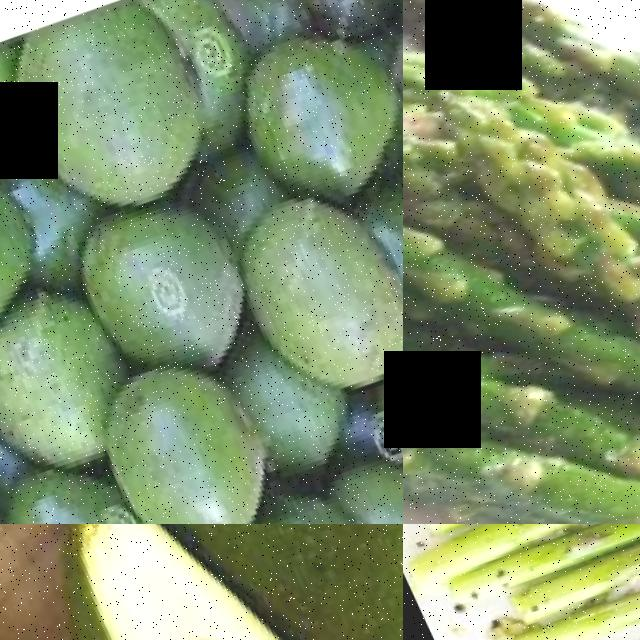asparagus: (485, 524, 640, 640), (504, 524, 640, 640), (458, 524, 640, 579), (534, 524, 640, 605), (504, 590, 640, 640)
avocado: (0, 0, 228, 228), (205, 154, 403, 412), (0, 524, 403, 640), (43, 172, 257, 386), (198, 0, 403, 211), (70, 351, 291, 524), (0, 249, 149, 482), (202, 524, 403, 640), (332, 259, 403, 510), (169, 451, 366, 524), (0, 444, 151, 524), (0, 145, 58, 346), (355, 3, 403, 172), (256, 0, 403, 53), (0, 38, 51, 181)
